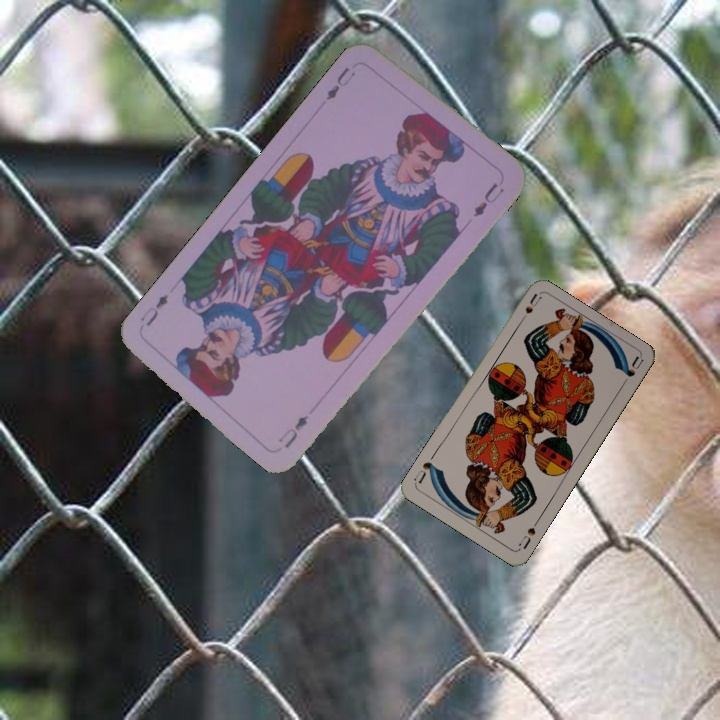EU: (321, 63, 359, 103), (275, 411, 312, 451)
SU: (514, 290, 544, 328), (516, 515, 542, 552)
